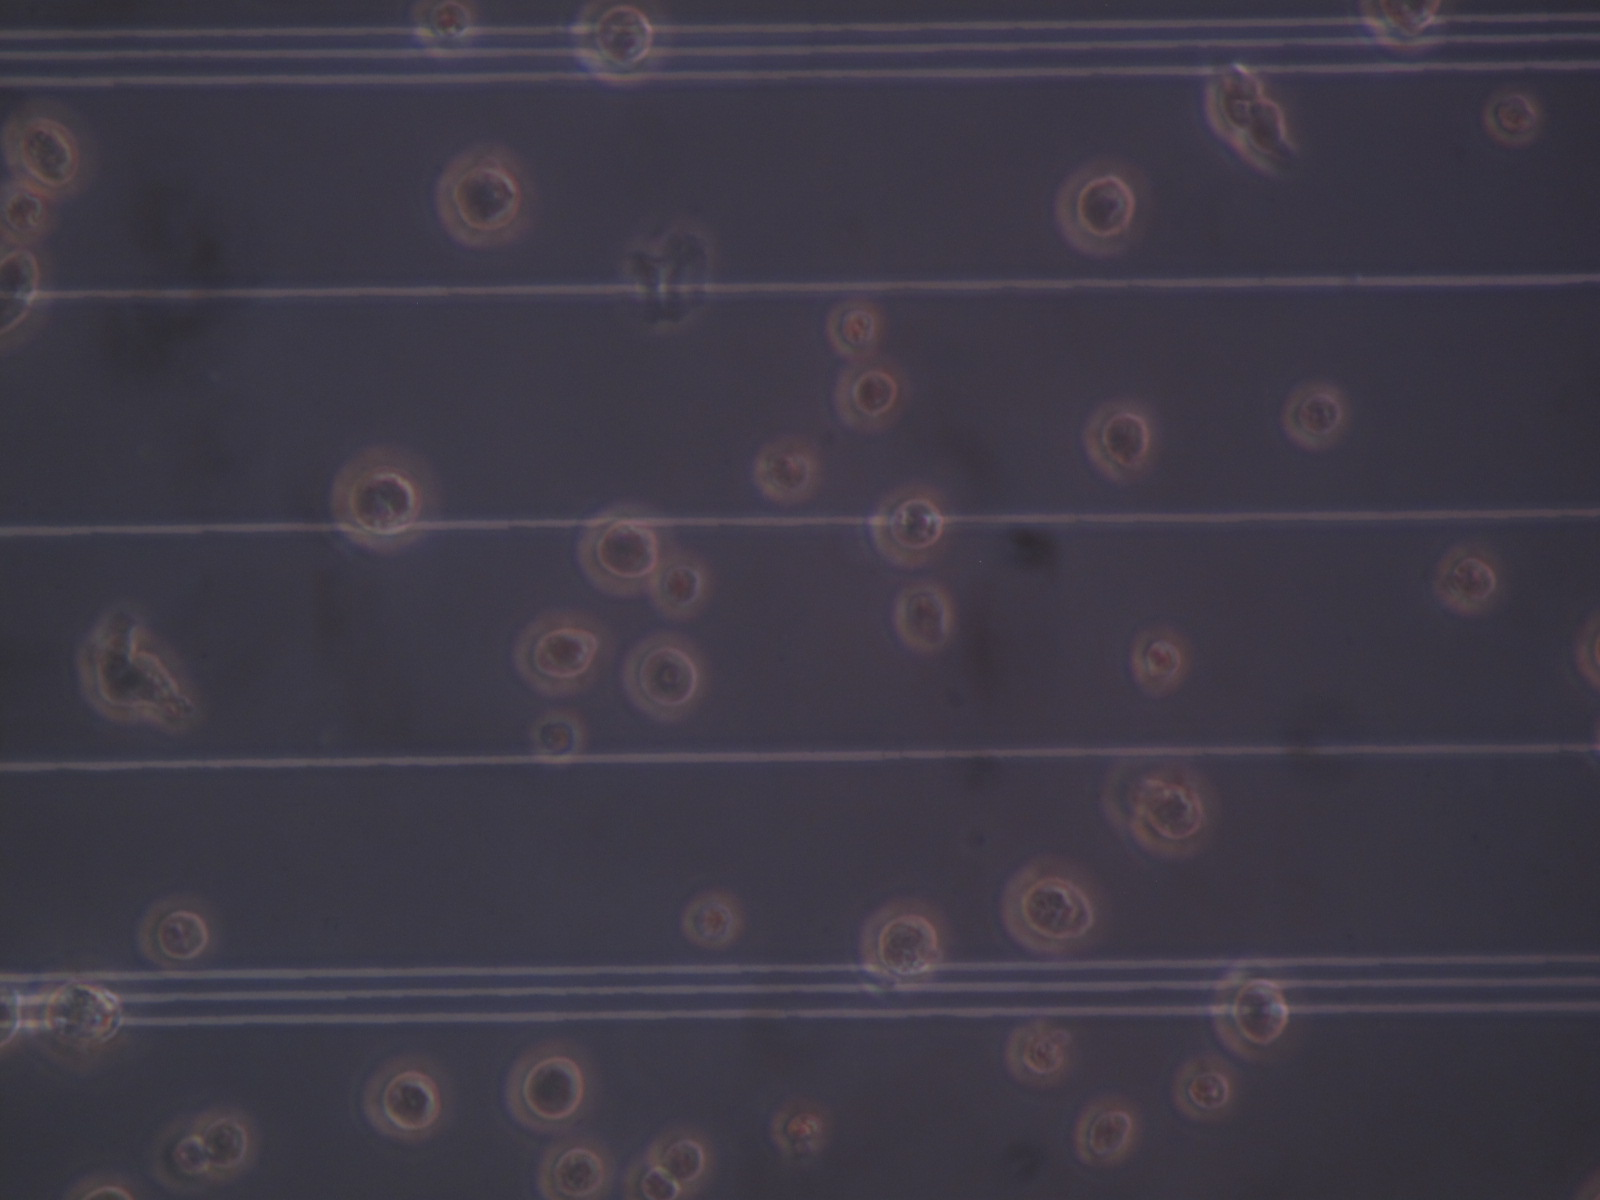hemo: (333, 445, 432, 558), (23, 963, 129, 1063), (433, 142, 530, 250), (574, 498, 674, 596), (998, 856, 1095, 957), (1049, 153, 1141, 258), (1, 95, 94, 197), (81, 634, 185, 718), (506, 1037, 598, 1133), (1213, 954, 1293, 1064), (363, 1050, 455, 1141), (511, 609, 609, 695), (569, 1, 661, 87), (624, 632, 708, 724), (859, 903, 944, 988), (1129, 775, 1217, 857), (140, 895, 223, 973), (867, 485, 947, 565), (1, 242, 53, 353), (1085, 401, 1153, 484), (1230, 98, 1301, 176), (834, 361, 910, 434), (149, 1116, 213, 1195), (1361, 1, 1450, 55), (539, 1139, 619, 1200), (1283, 383, 1349, 454), (1204, 61, 1262, 141), (1075, 1095, 1141, 1165), (1435, 543, 1498, 616), (648, 1124, 716, 1190), (195, 1111, 260, 1180), (649, 552, 712, 621), (1129, 623, 1191, 693), (1005, 1024, 1068, 1092), (1173, 1054, 1237, 1119), (893, 582, 952, 650), (757, 441, 819, 503), (769, 1098, 825, 1156), (682, 892, 740, 948), (1483, 89, 1542, 144), (413, 1, 475, 53), (626, 1155, 694, 1200), (530, 708, 585, 764), (1, 184, 50, 241), (826, 301, 876, 355), (1, 982, 24, 1055)
